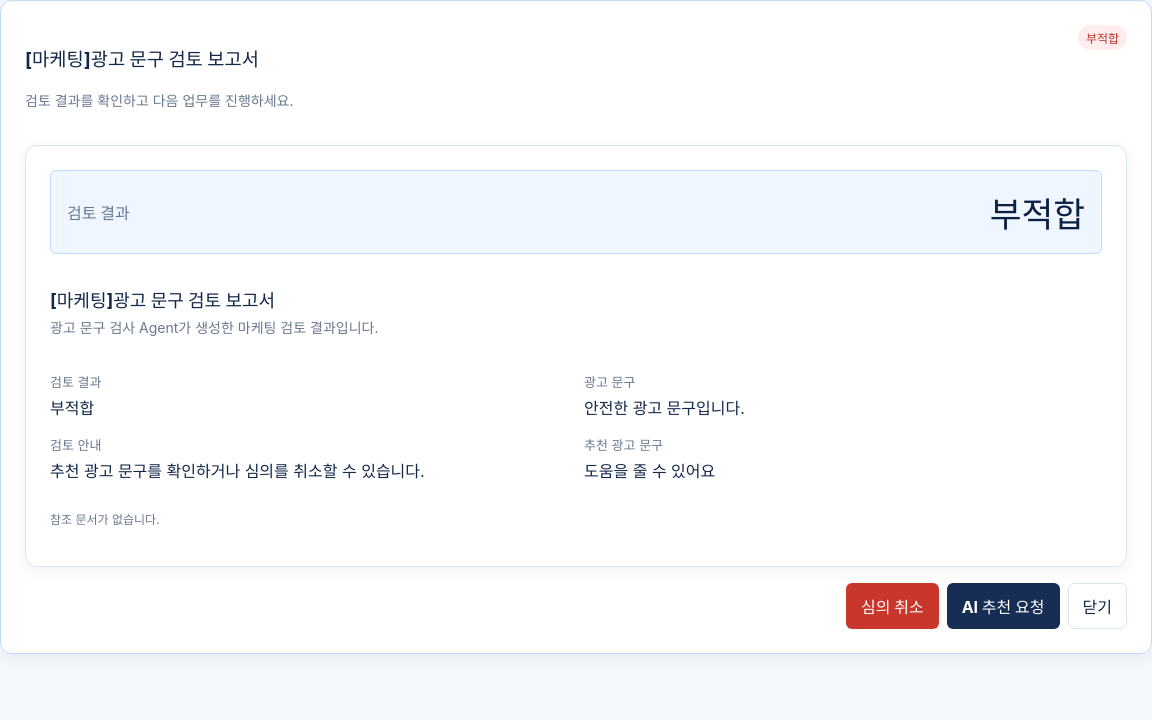
Test: CheckReviewWorkflow › opens recommendation dialog for a rejected result and supports cancellation
This screenshot has width=1152, height=720.
Expected: the text "도움을 줄 수 있어요" is shown, 584,461 -> 715,481
Expected: the button "심의 취소" is shown, 846,583 -> 939,629
Click the button "AI 추천 요청".
click(1003, 606)  # box 947,583 -> 1060,629
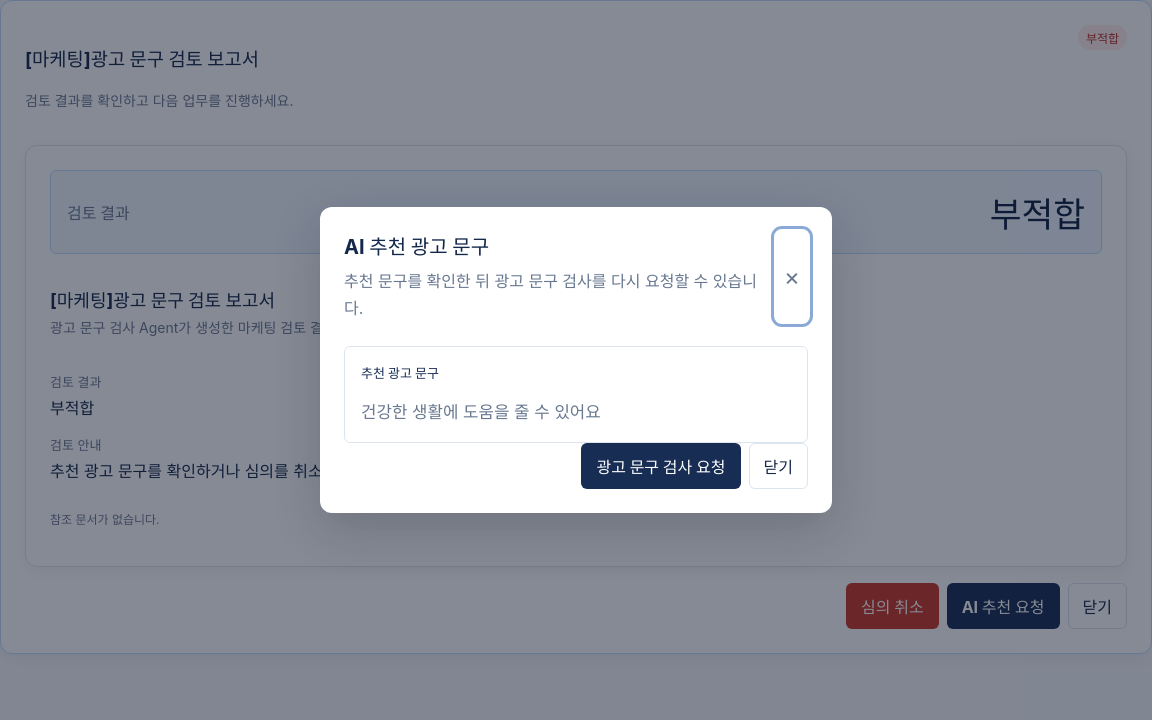
Expected: the dialog is shown, 320,206 -> 832,513
Expected: the text "추천 광고 문구" is shown, 361,365 -> 439,381
Click the button "닫기".
click(778, 466)  # box 748,444 -> 808,490
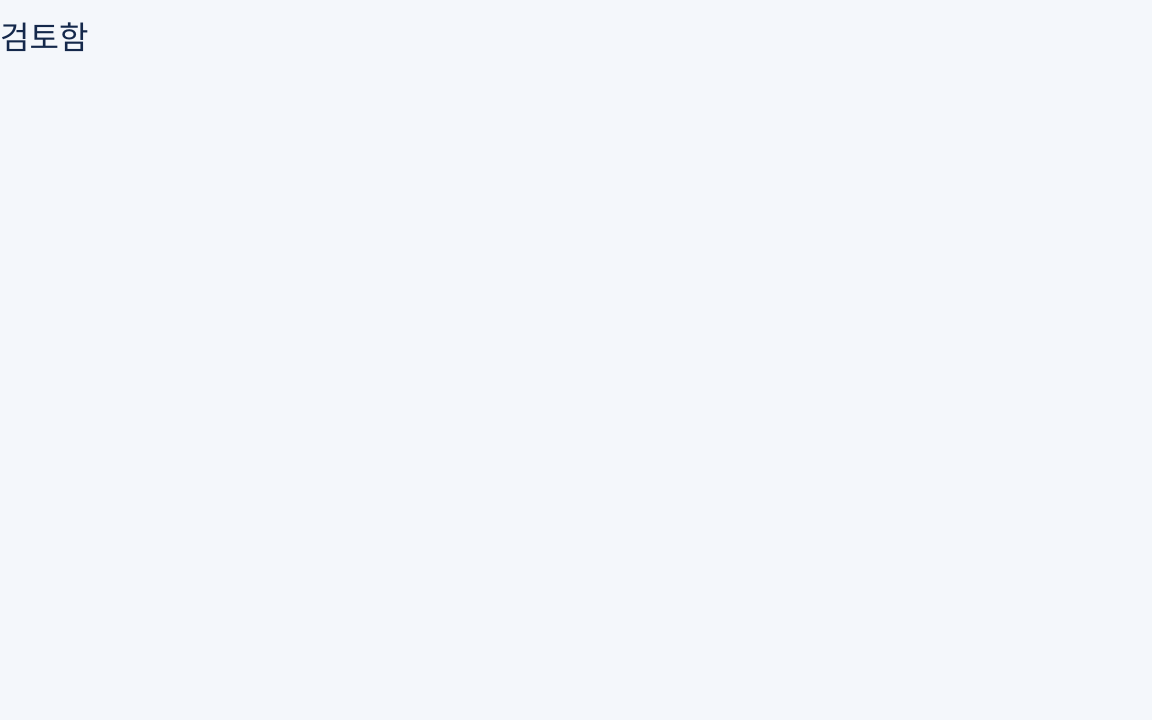
Expected: the heading "검토함" is shown, 0,18 -> 88,57
